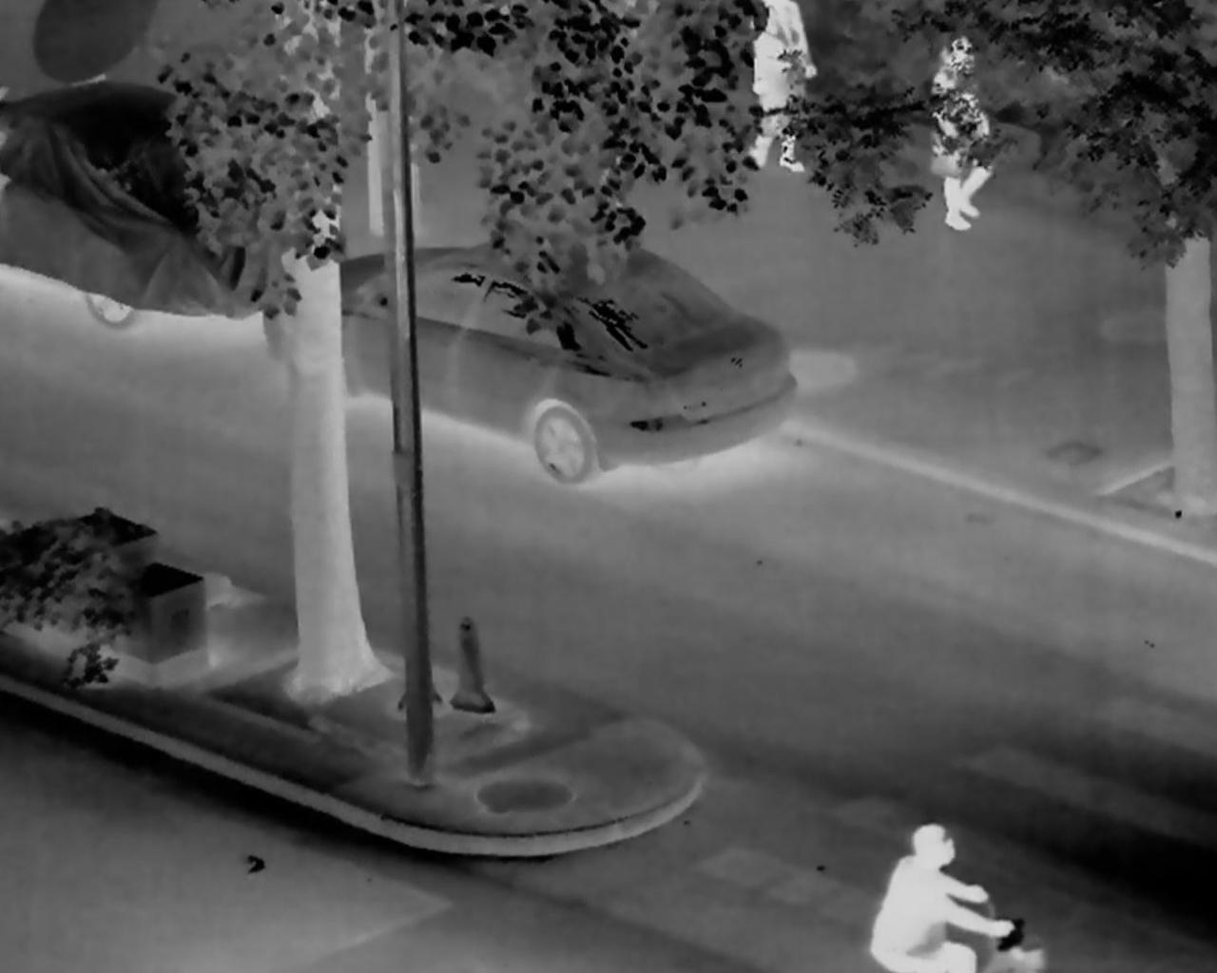person: (865, 818, 1014, 973), (921, 37, 993, 233), (745, 3, 817, 176)
